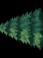Obstacle: (21, 7, 43, 50)
